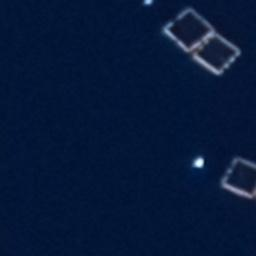square_solid: (158, 4, 222, 58), (188, 29, 245, 82), (214, 151, 256, 205)
